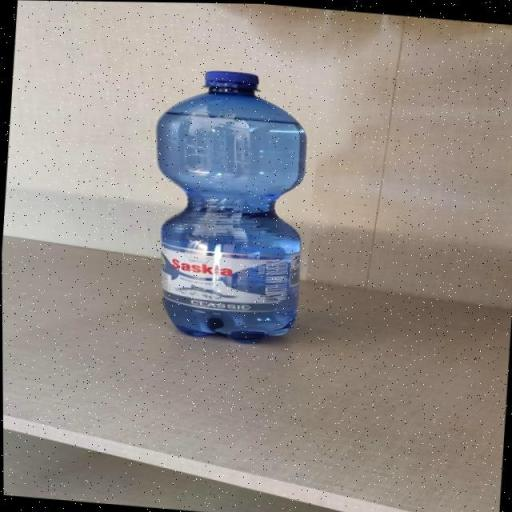plastic: (137, 60, 319, 350)
